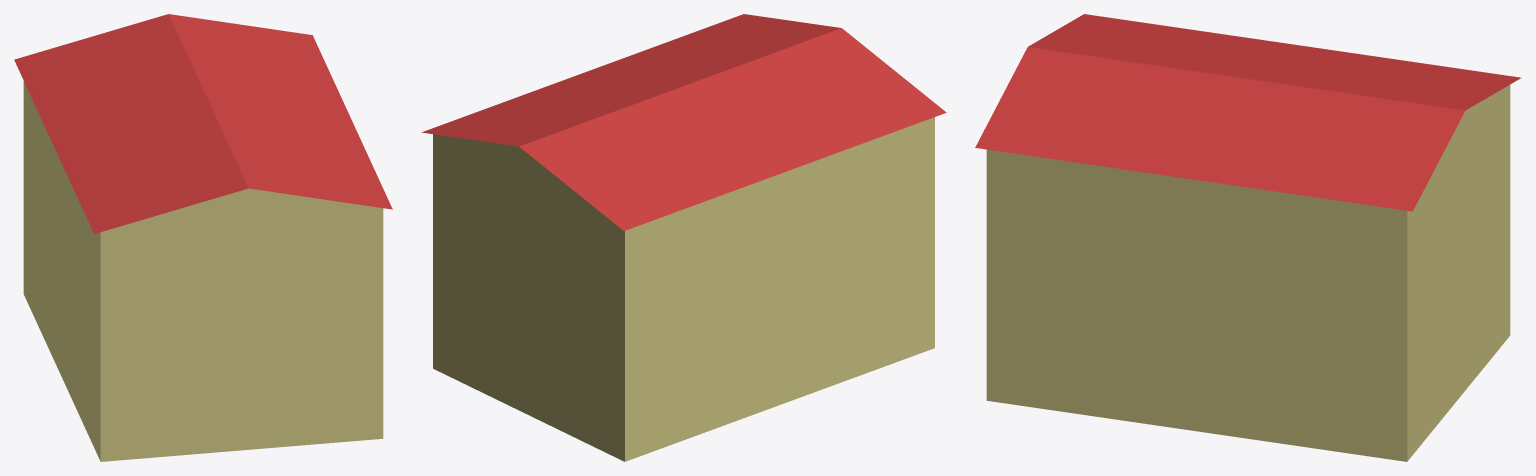
3 views of the same model, side by side, from view 1: azimuth 30°, elevation 25°; view 2: azimuth 150°, elevation 25°; view 3: azimuth 270°, elevation 25° (orthographic). The views are drawn at different scales.
Bounding box in the file's own units: 12.9 × 15.08 × 8.88.
